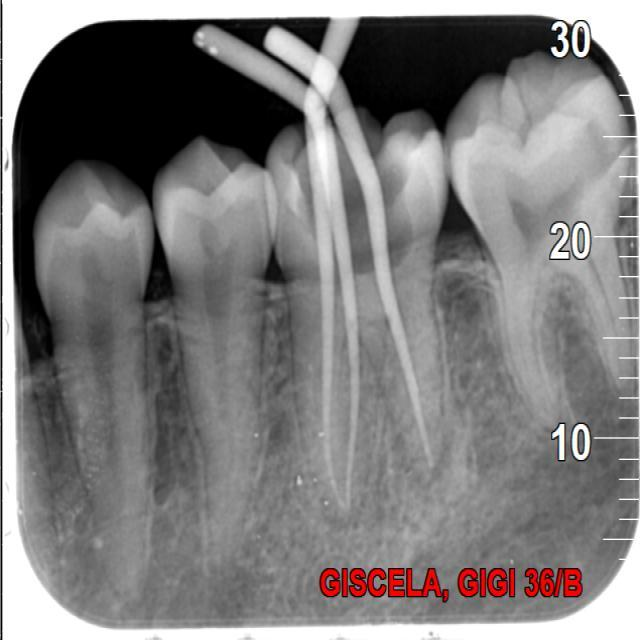individual-tooth-8tto: (431, 47, 639, 440), (259, 106, 454, 520), (146, 139, 279, 566), (32, 161, 153, 604)
